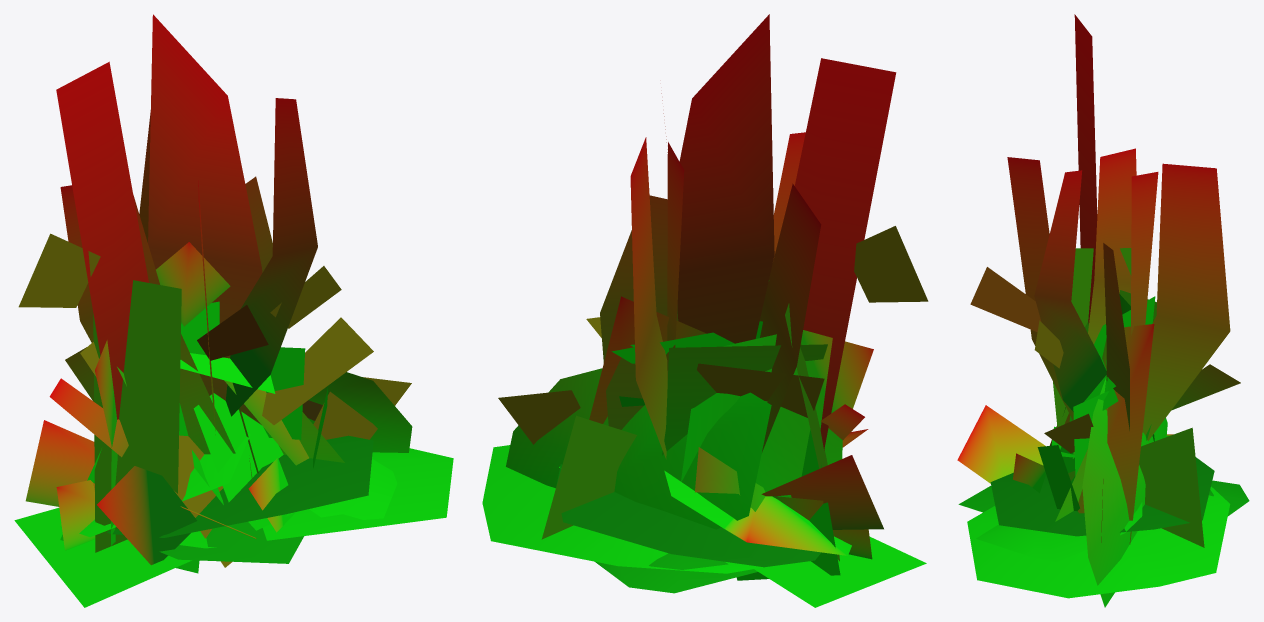
File: DrySet01_Var10_LOD1.fbx
The picture shows the model from 3 angles, left to right: view 1: azimuth 30°, elevation 25°; view 2: azimuth 150°, elevation 25°; view 3: azimuth 270°, elevation 25°; orthographic projection. The views are drawn at different scales.
Visible parts, largest first — view 1: DrySet01_Var10_LOD1; view 2: DrySet01_Var10_LOD1; view 3: DrySet01_Var10_LOD1.
Part boxes in pixels (x1,y1,x2,y2): DrySet01_Var10_LOD1: [14, 14, 453, 607]; DrySet01_Var10_LOD1: [482, 14, 928, 607]; DrySet01_Var10_LOD1: [957, 14, 1249, 607].
Size of the model in its own units: 69.57 by 87.48 by 46.02.
